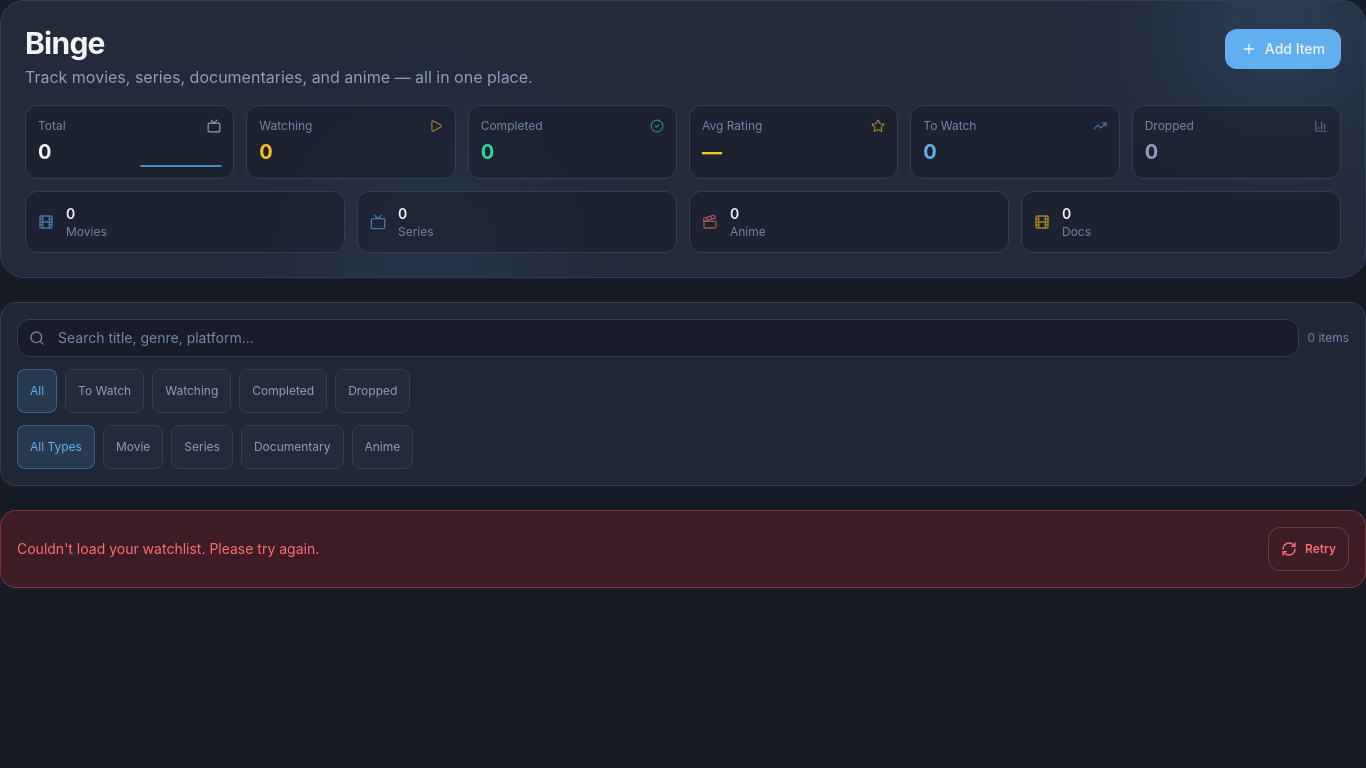
Scenario: BingeAdminView › shows a recoverable error instead of an empty collection when loading fails
The width and height of the screenshot is (1366, 768).
Check: the message "Couldn't load your watchlist. Please try again. Retry" is shown, box [0,510,1365,588]
What coordinates should you click on to do the following:
click the button with aria-label "retry loading watchlist"
I would click on:
 (1308, 549)
Its box is [1268,527,1349,571].
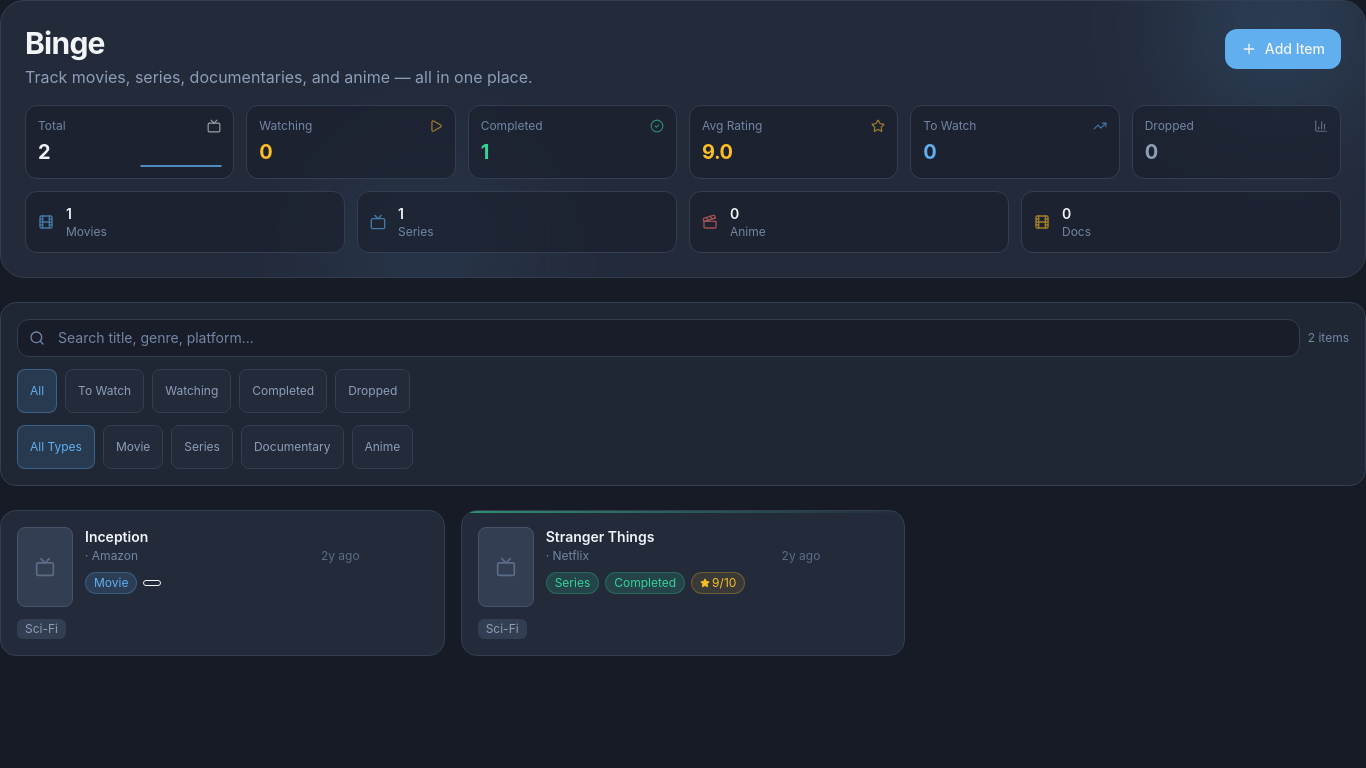
Check: the text "Stranger Things" is shown, box [546,528,654,545]
